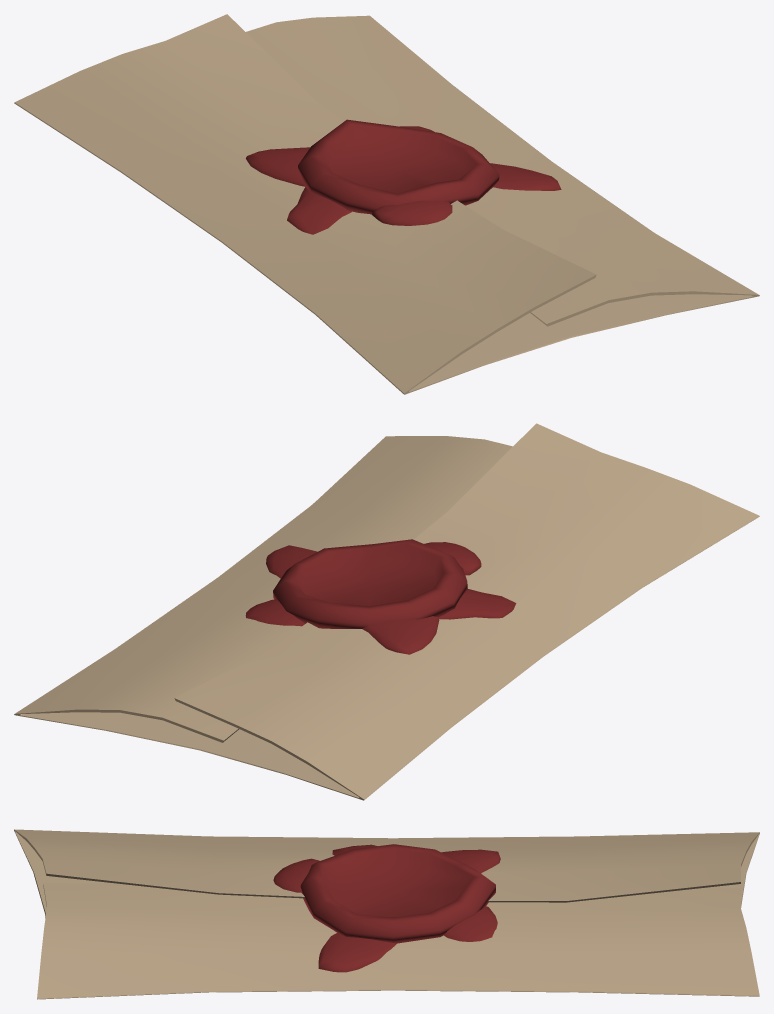
The model's file is P_letter_01_LD.fbx.
3 views of the same model, one above another, from view 1: azimuth 30°, elevation 25°; view 2: azimuth 150°, elevation 25°; view 3: azimuth 270°, elevation 25° (orthographic). The views are drawn at different scales.
Parts seen in each view (by area): view 1: P_letter_01; view 2: P_letter_01; view 3: P_letter_01.
Part boxes in pixels (box(x1,y1,x2,y2)): P_letter_01: box(14, 14, 759, 394); P_letter_01: box(14, 423, 759, 800); P_letter_01: box(14, 829, 759, 999).
Size of the model in its own units: 20 by 2.94 by 37.23.
Materials: 1 (1 with a texture image).
